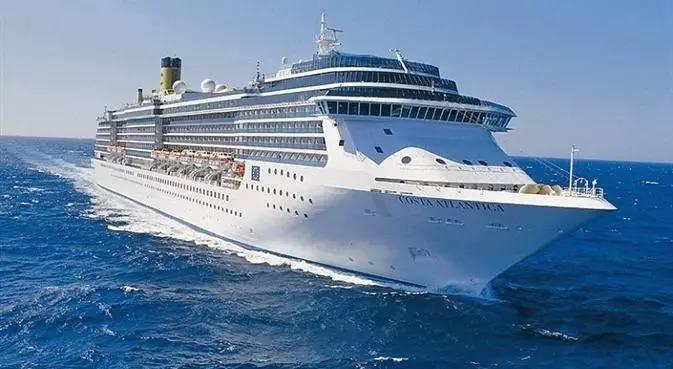youlun: (92, 35, 620, 317)
